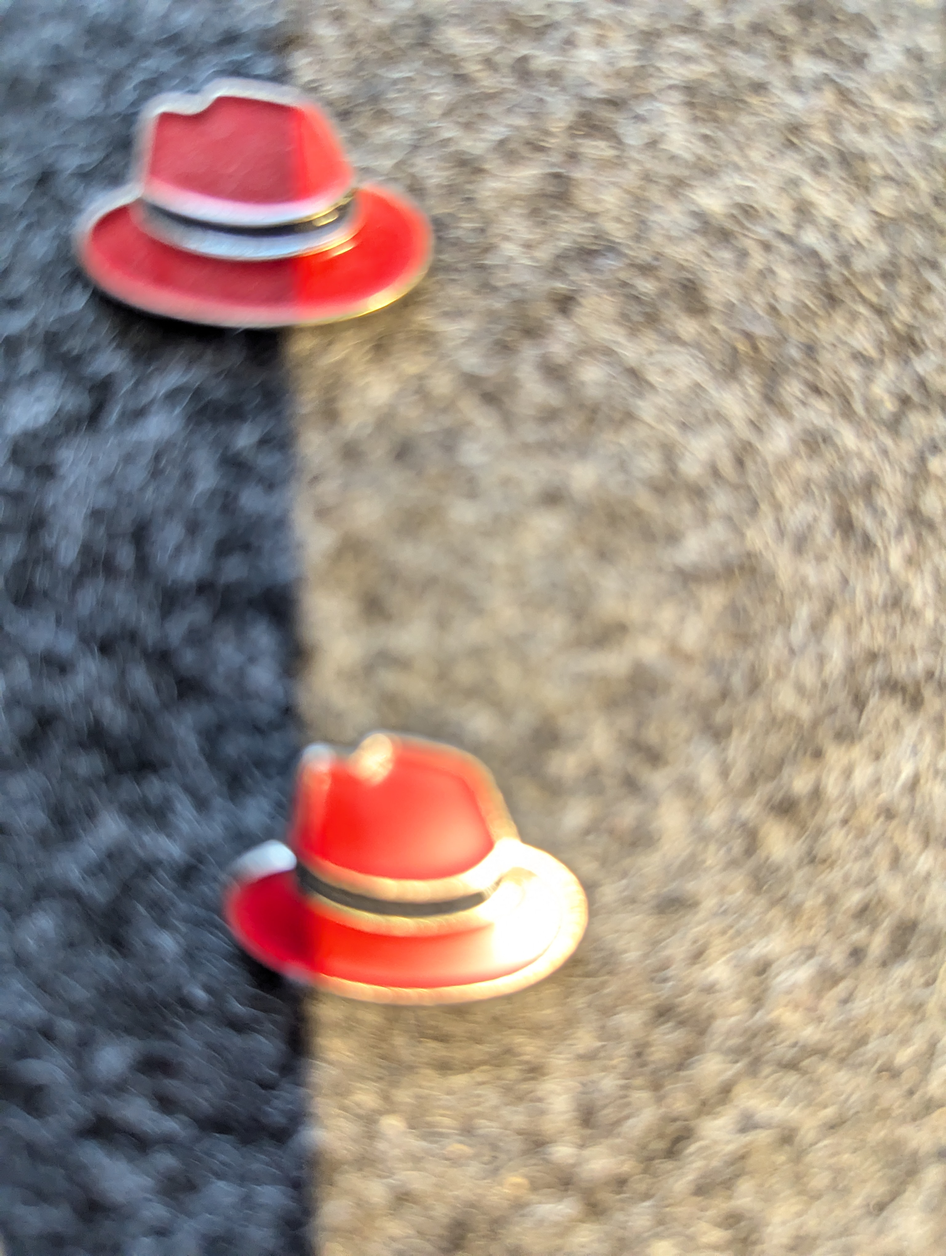Red-Hat: (184, 692, 622, 1077), (57, 34, 495, 363)
